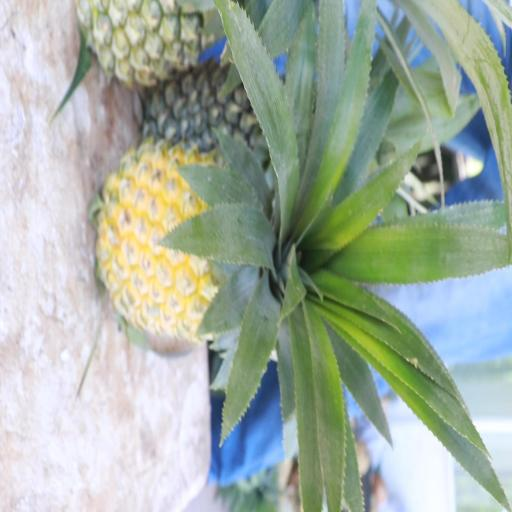Pineapple - v8 v1: (100, 142, 328, 347)
